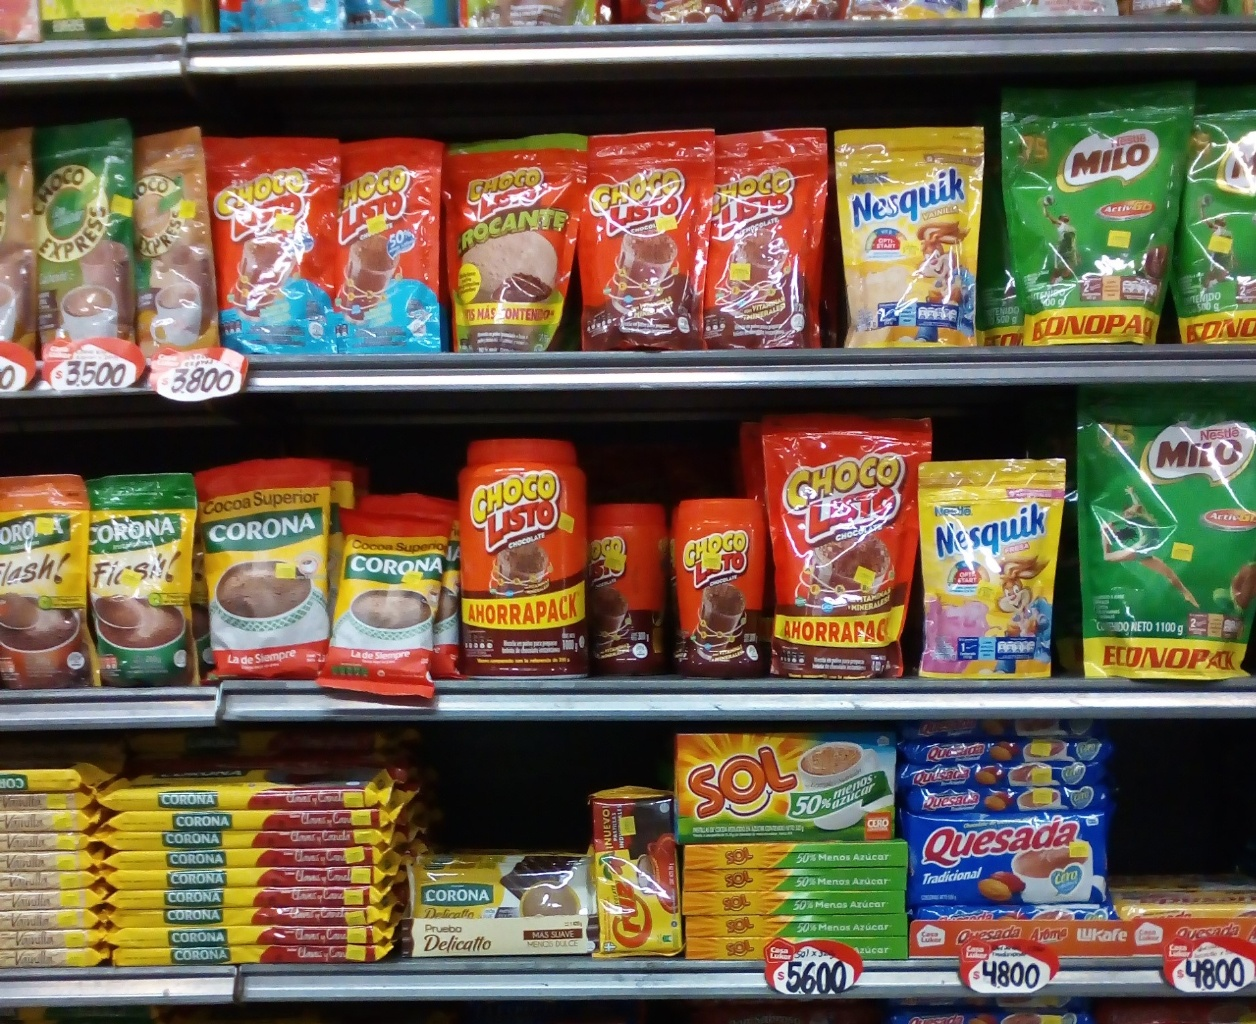COL0170102DYP25000: (435, 121, 586, 349)
COL0170103DYP20000: (711, 127, 834, 344)
COL0170103DYP40000: (753, 413, 933, 680)
COL0170103TRR00100: (463, 429, 591, 680)
COL0170103TRR30000: (668, 489, 769, 685)
COL0170104DYP20000: (339, 132, 452, 357)
COL0170203DYP50000: (1170, 84, 1256, 348)
COL0170305DYP20000: (905, 454, 1076, 682)
COL0170306DYP20000: (829, 126, 996, 350)
